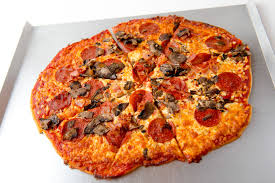pizza: (37, 15, 253, 178)
